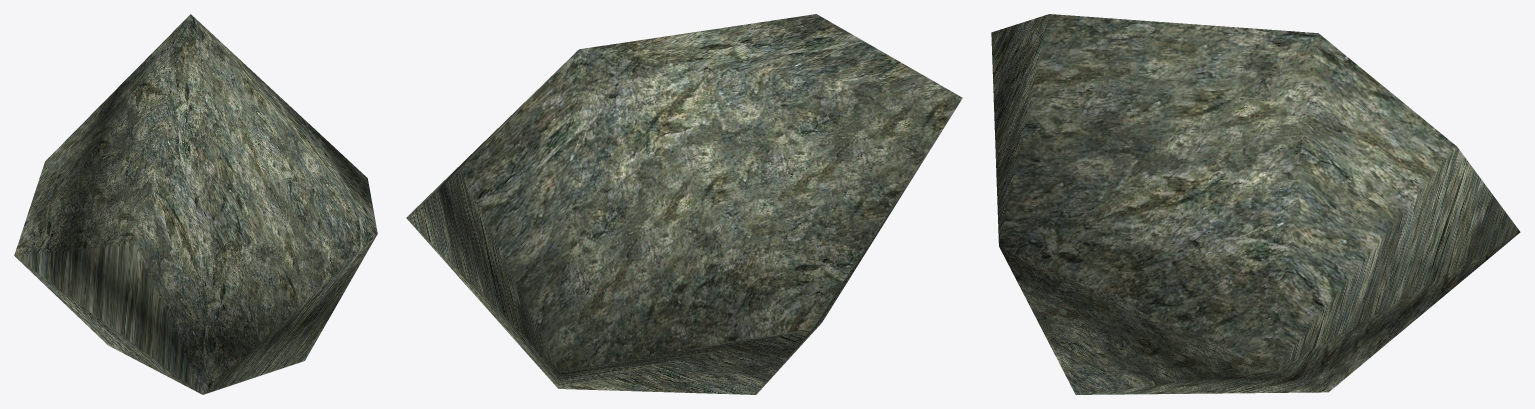
The model's file is mtns_rock_grey_l3.fbx.
3 renders of one model, left to right at view 1: azimuth 30°, elevation 25°; view 2: azimuth 150°, elevation 25°; view 3: azimuth 270°, elevation 25°, orthographic. The views are drawn at different scales.
Parts seen in each view (by area): view 1: mesh_node; view 2: mesh_node; view 3: mesh_node.
Part boxes in pixels (x1,y1,x2,y2): mesh_node: [14, 14, 377, 394]; mesh_node: [406, 14, 962, 394]; mesh_node: [991, 14, 1520, 394].
Bounding box in the file's own units: 1.44 × 1.12 × 1.52.
1 material, 1 textured.
